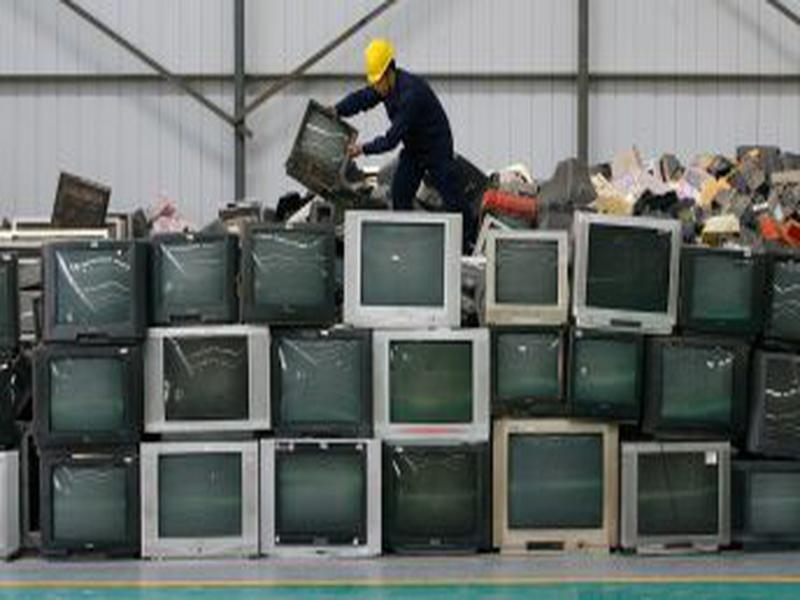tv_pc: (490, 417, 625, 561), (565, 208, 689, 341), (139, 321, 276, 441), (339, 206, 470, 331), (261, 435, 387, 564), (138, 438, 260, 569), (619, 435, 738, 562), (371, 324, 492, 445), (381, 436, 494, 558), (270, 320, 380, 439), (639, 335, 754, 439), (241, 214, 346, 326), (37, 451, 145, 559), (37, 235, 149, 339), (28, 343, 142, 445), (146, 224, 239, 324), (481, 228, 572, 328), (677, 243, 767, 340), (488, 324, 574, 418), (558, 334, 650, 419)
